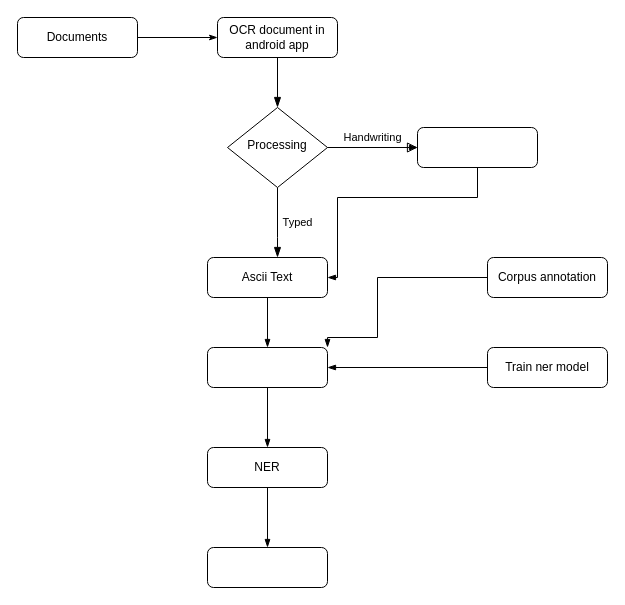
This 625x605 diagram has some shape labels left out. The centre of each missing label's shape, as x and y in pixels:
handwriting recognition: (477,147)
Show and save informations: (267,567)
Text processing: (267,367)
